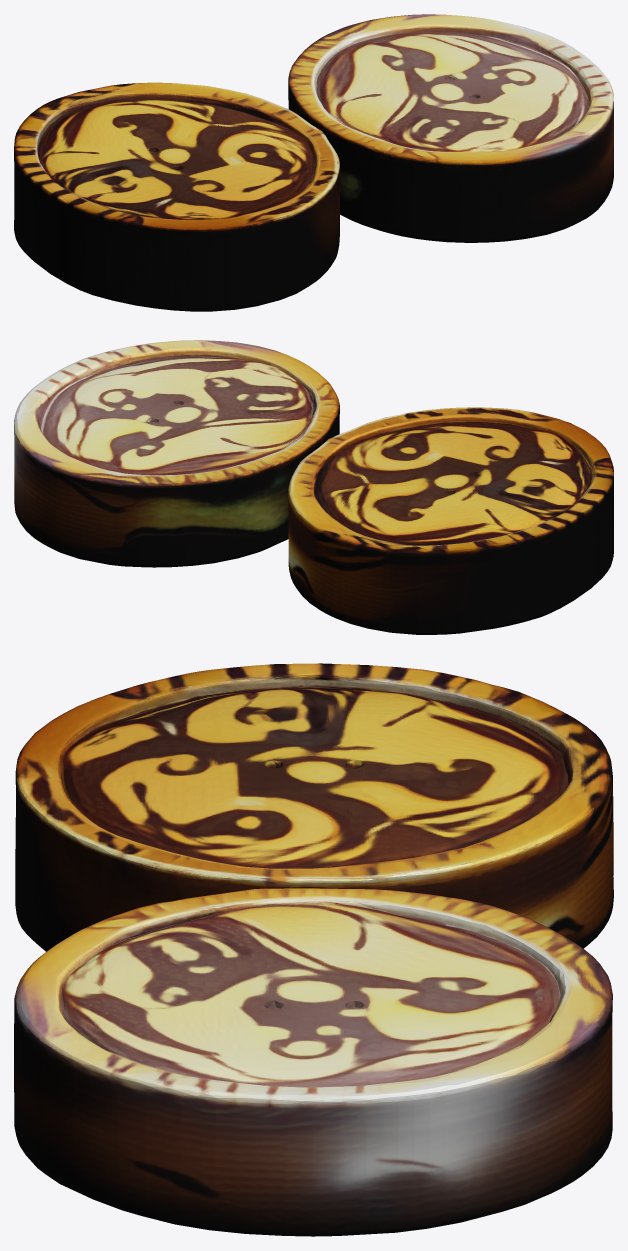
File: wooden-cufflinks-vintage.jpeg.glb
The picture shows the model from 3 angles, top to bottom: view 1: azimuth 30°, elevation 25°; view 2: azimuth 150°, elevation 25°; view 3: azimuth 270°, elevation 25°; orthographic projection. The views are drawn at different scales.
Visible parts, largest first — view 1: world; view 2: world; view 3: world.
Part boxes in pixels (box(x1,y1,x2,y2)): world: box(14, 14, 613, 311); world: box(14, 340, 613, 634); world: box(14, 663, 613, 1236).
Bounding box in the file's own units: 1 × 0.151 × 0.5808.
Materials: 1 (1 with a texture image).
